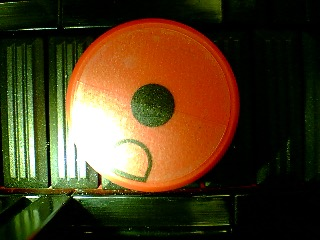BOHOMIPO1: (66, 18, 239, 192)
